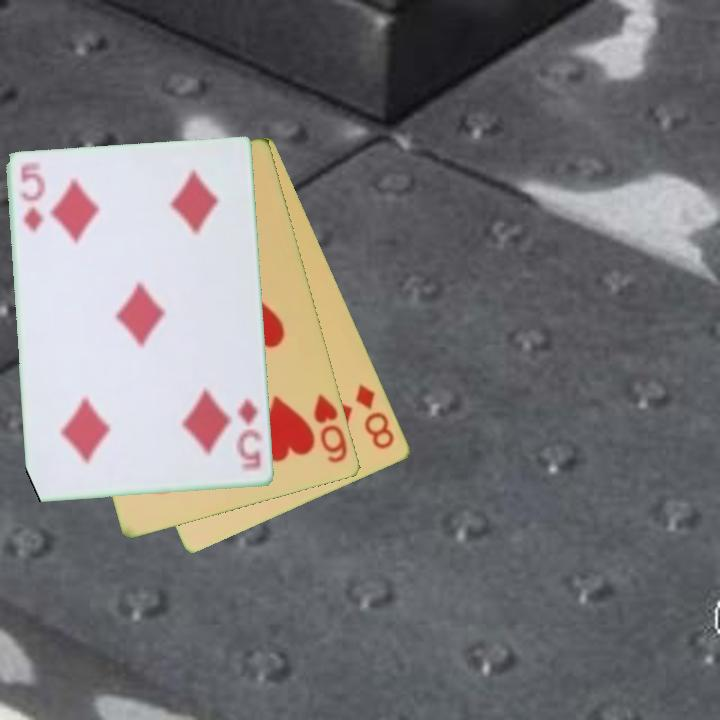5d: (234, 395, 266, 476), (17, 159, 47, 236)
6h: (310, 390, 351, 466)
8d: (352, 380, 398, 453)
